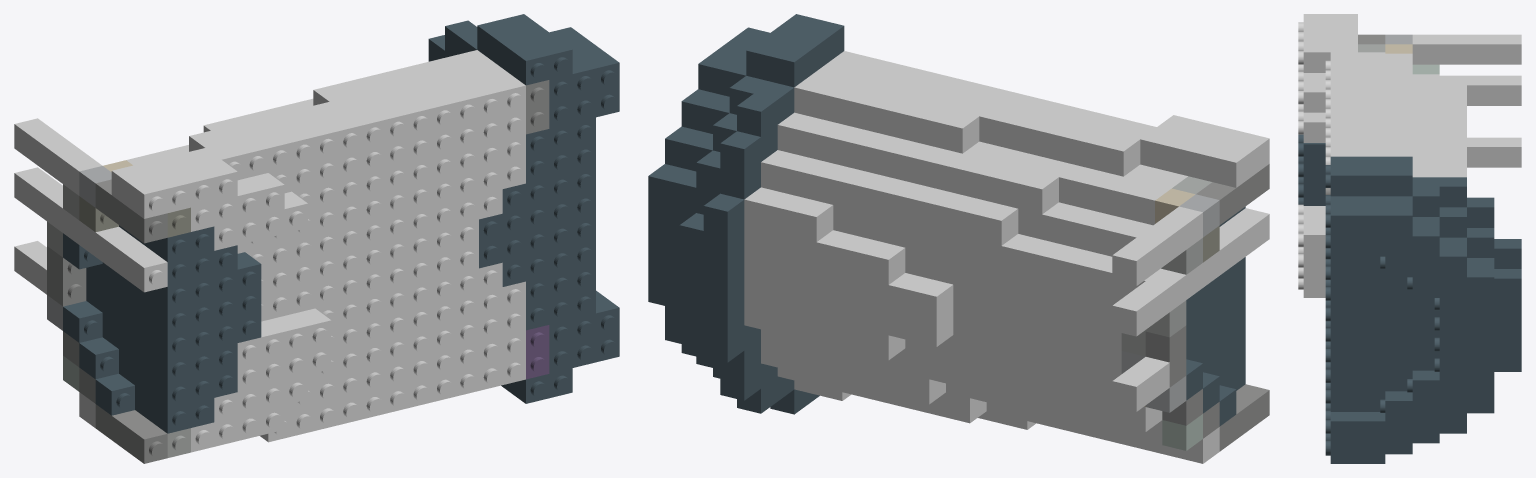
The model's file is full.glb.
3 views of the same model, side by side, from view 1: azimuth 30°, elevation 25°; view 2: azimuth 150°, elevation 25°; view 3: azimuth 270°, elevation 25° (orthographic). The views are drawn at different scales.
Visible parts, largest first — view 1: world; view 2: world; view 3: world.
Boxes of the visible parts, x1=… form: world: x1=14, y1=14, x2=619, y2=463; world: x1=648, y1=14, x2=1269, y2=463; world: x1=1298, y1=14, x2=1521, y2=463.
Size of the model in its own units: 168 by 112 by 78.6.
